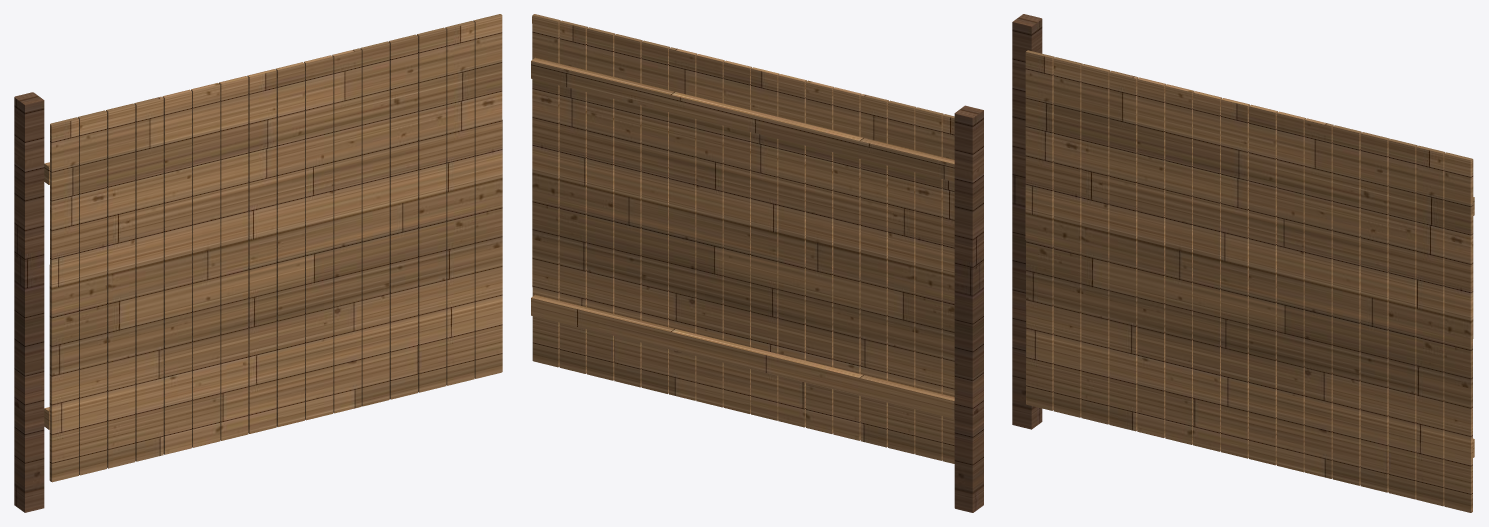
Rendered from fence.glb.
3 renders of one model, left to right at view 1: azimuth 30°, elevation 25°; view 2: azimuth 150°, elevation 25°; view 3: azimuth 330°, elevation 25°, orthographic. The views are drawn at different scales.
Visible parts, largest first — view 1: fence_wood, fence_dkwood; view 2: fence_wood, fence_dkwood; view 3: fence_wood, fence_dkwood.
Part boxes in pixels (x1,y1,x2,y2): fence_wood: (44, 14, 502, 482); fence_dkwood: (14, 92, 44, 512); fence_wood: (531, 14, 954, 463); fence_dkwood: (954, 105, 983, 512); fence_wood: (1025, 50, 1474, 512); fence_dkwood: (1012, 14, 1042, 429).
Size of the model in its own units: 2.42 by 2 by 0.16.
2 materials, 2 textured.
